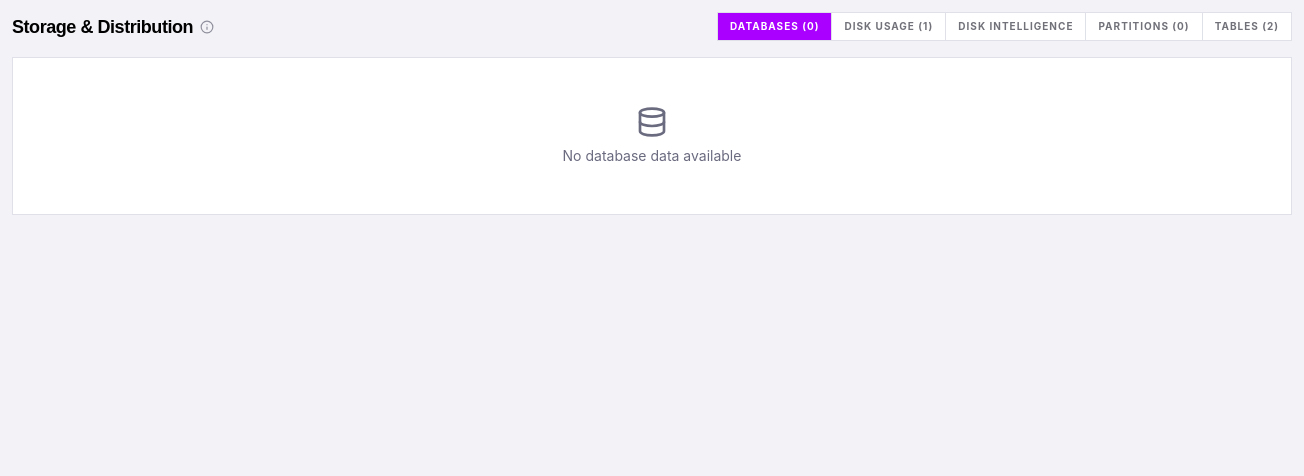
Scenario: StorageDistribution › shows disk usage derived from table statistics when databaseDiskUsage.json is absent
Step 1. Click the button with test id "storage-tab-disk" → [889, 26], box [832,13,946,40]
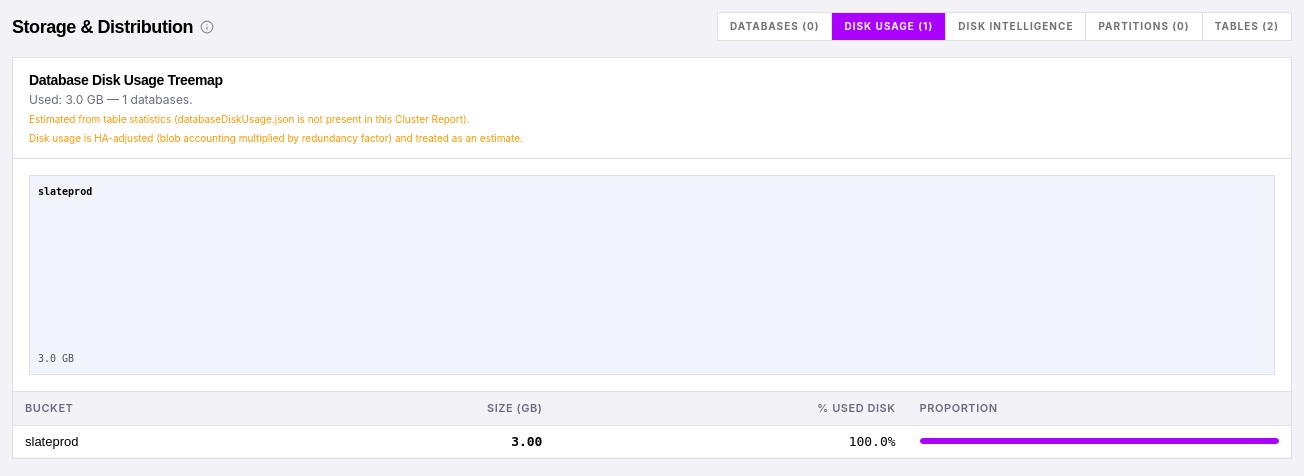
Expected: the text "Estimated from table statistics" is shown, [29,113,470,125]
Expected: the text "HA-adjusted" is shown, [29,132,523,144]
Expected: the table with test id "disk-usage-table" shows "slateprod", [25,434,78,448]
